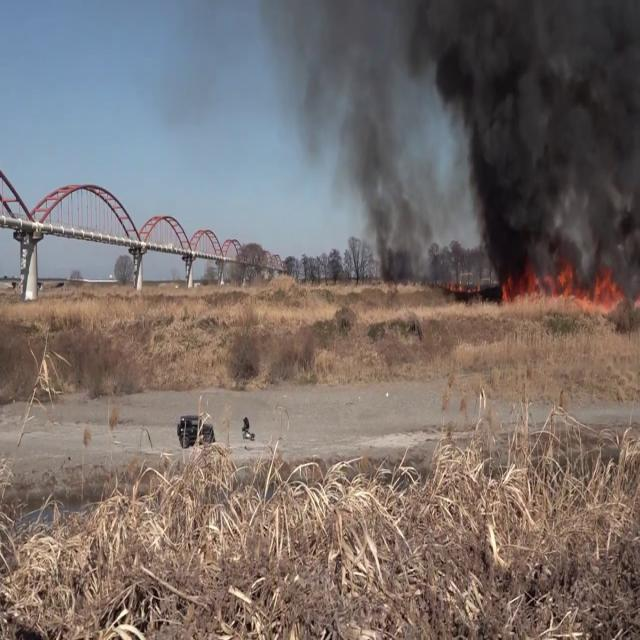Fire: (492, 252, 625, 314)
Smoke: (425, 0, 640, 285), (292, 0, 442, 268)
